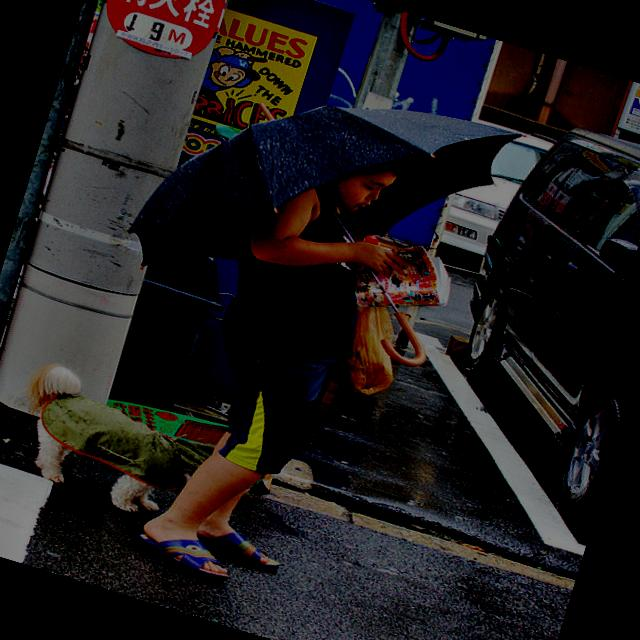Vehicle: (416, 115, 640, 508), (432, 115, 556, 267)
